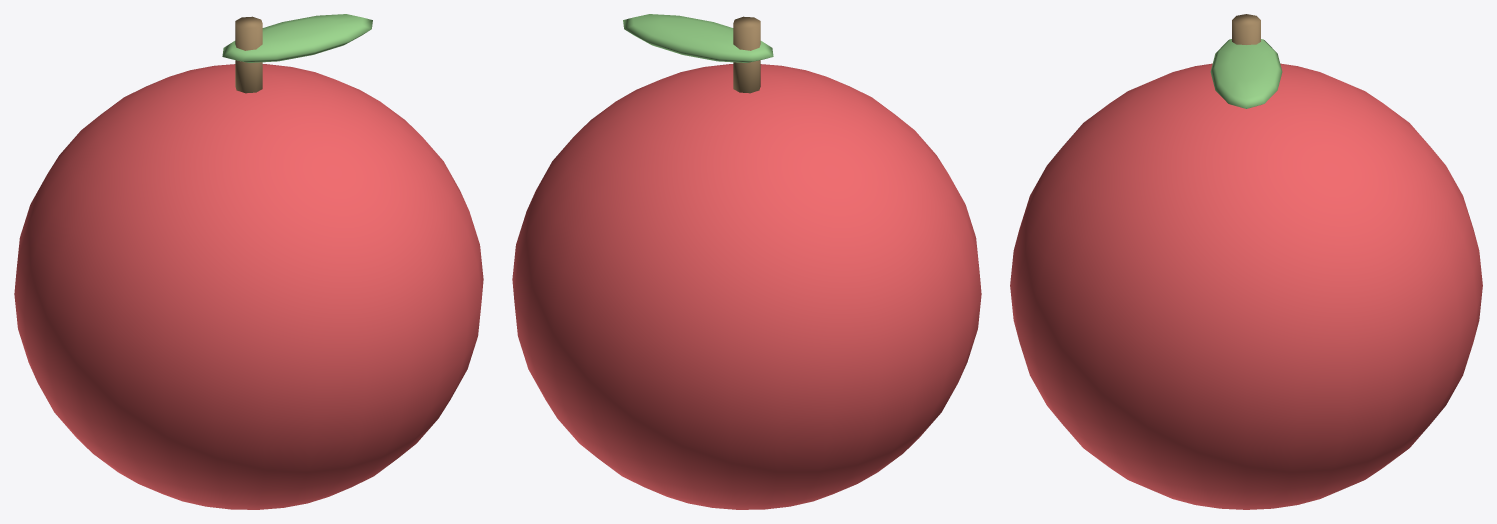
The model's file is Apple.glb.
3 renders of one model, left to right at view 1: azimuth 30°, elevation 25°; view 2: azimuth 150°, elevation 25°; view 3: azimuth 270°, elevation 25°, orthographic.
Visible parts, largest first — view 1: Apple; view 2: Apple; view 3: Apple.
Part boxes in pixels (x1,y1,x2,y2): Apple: (14, 14, 483, 509); Apple: (512, 14, 981, 509); Apple: (1010, 14, 1482, 509).
Bounding box in the file's own units: 0.92 × 1 × 0.92.
